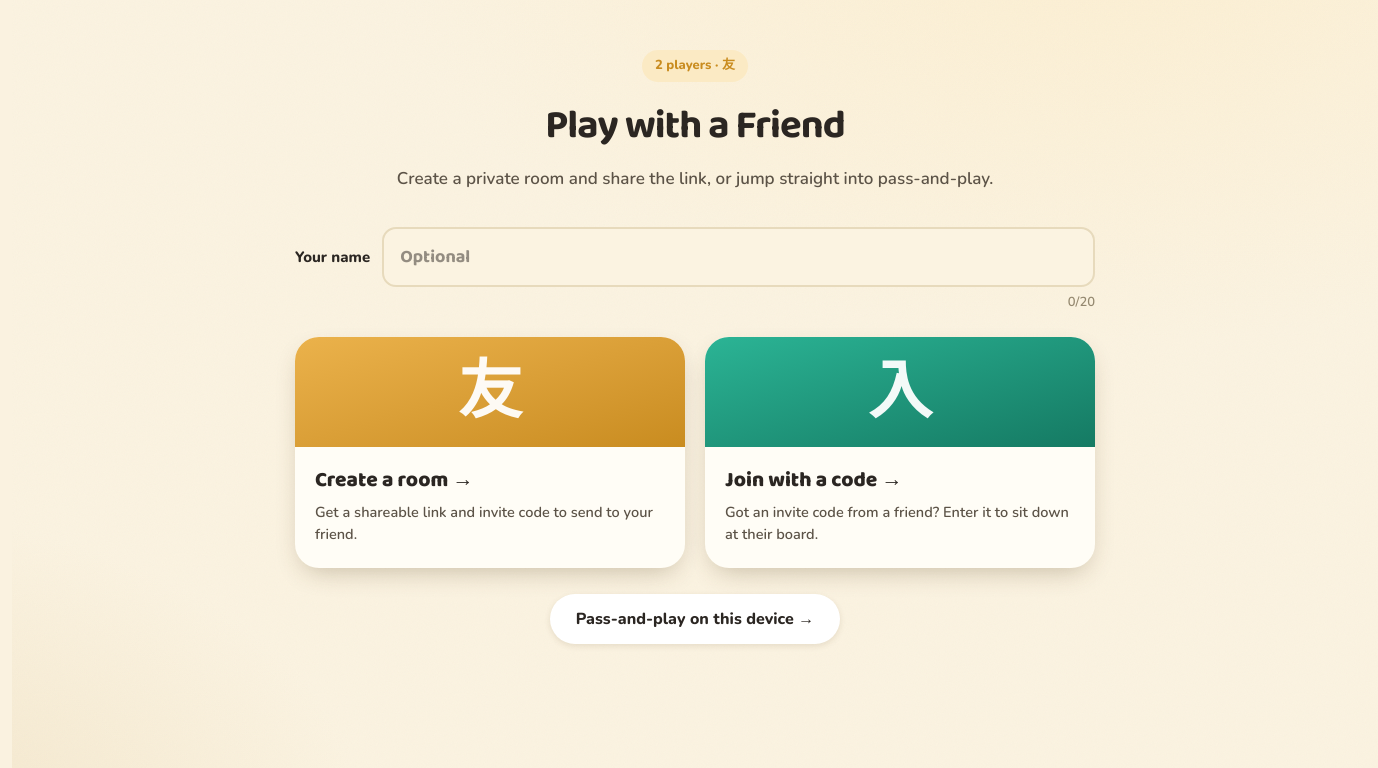
Test case: MultiplayerScreen lobby › takes the host straight to the board with the invite panel after creating a room
Click the button "Create a room". click: (490, 392)
box: 295,336 -> 685,568
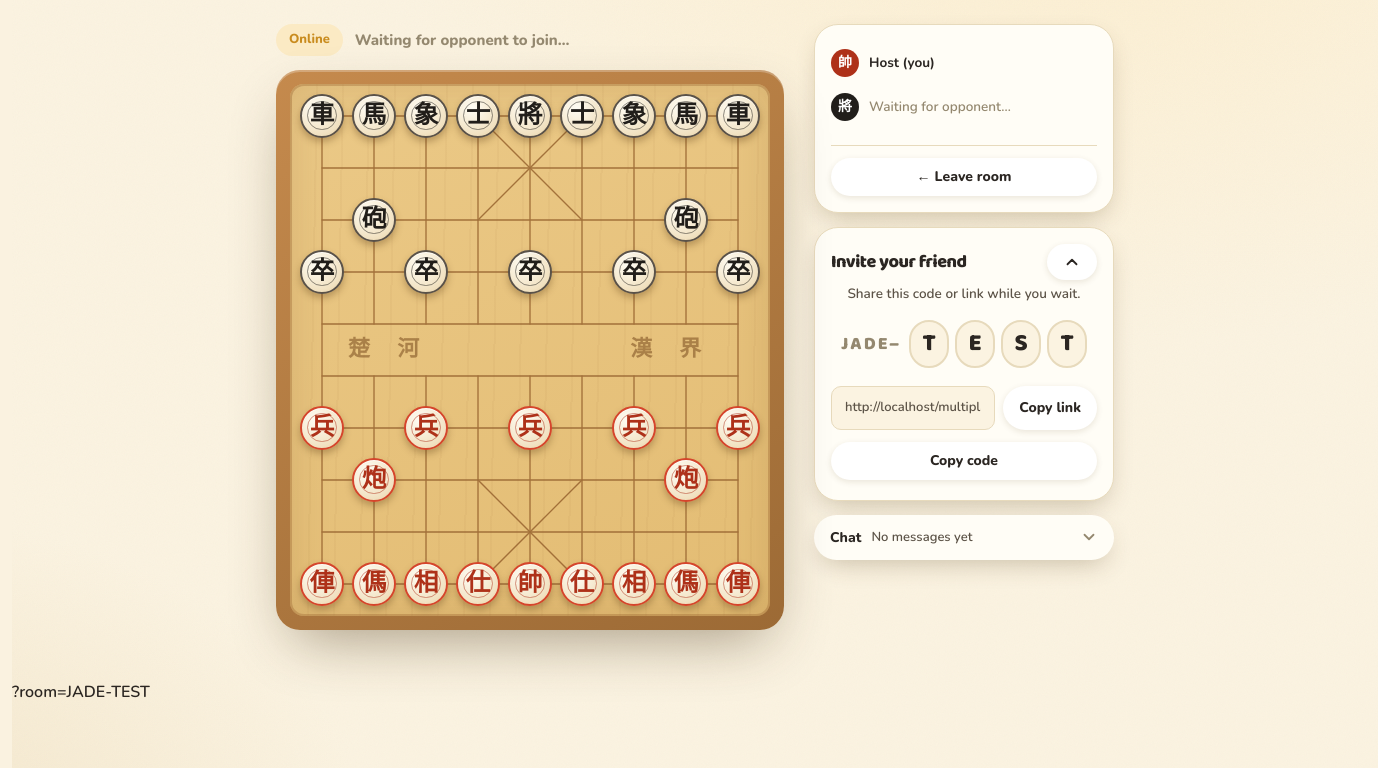
Now the element with test id "waiting-invite-panel" is shown, box 814,227 -> 1114,501
Now the text "Online" is shown, box 276,24 -> 343,56
Now the text "JADE–" is shown, box 841,330 -> 901,358
